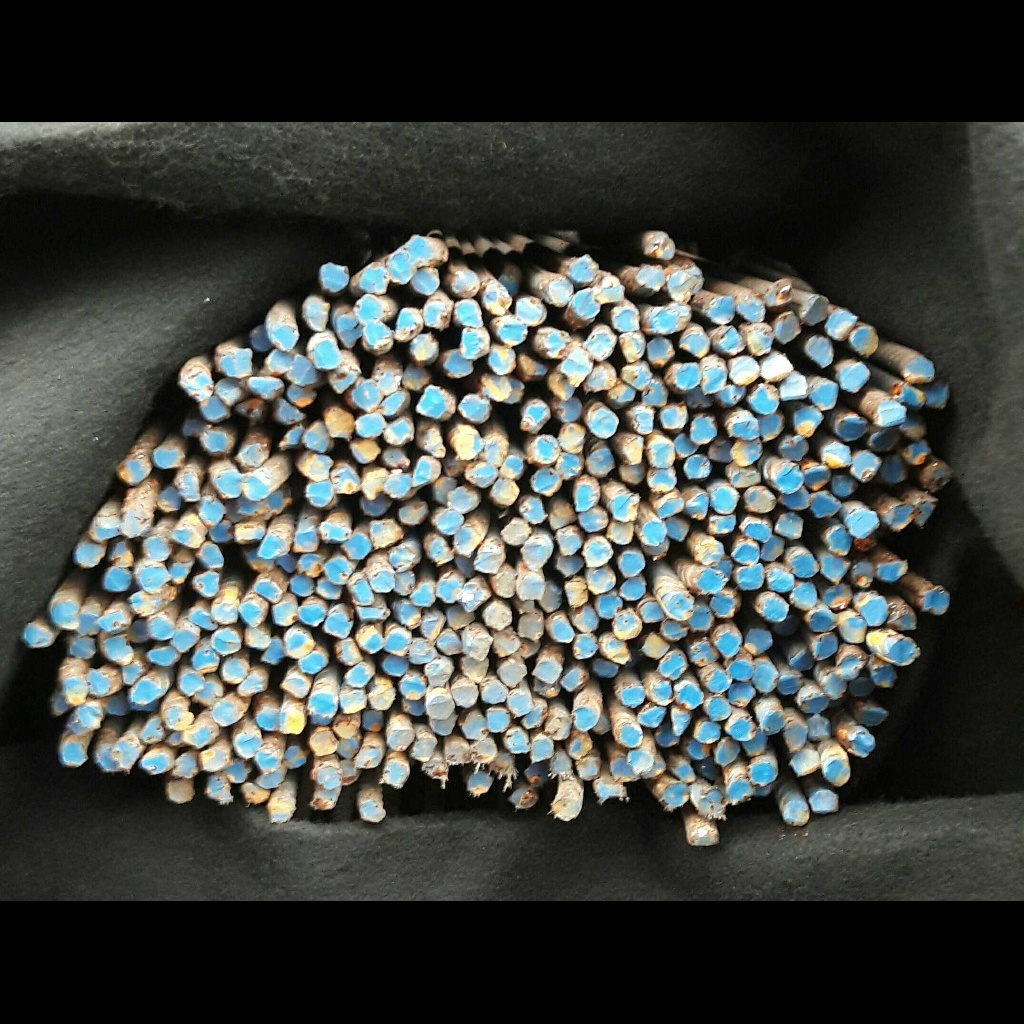dipstick: (360, 261, 389, 295), (851, 451, 882, 482), (620, 361, 652, 391), (287, 355, 318, 385), (562, 350, 591, 382), (516, 296, 546, 326), (825, 312, 856, 341), (389, 251, 417, 283), (879, 453, 908, 483), (326, 407, 354, 438), (417, 387, 445, 418), (729, 440, 762, 466), (320, 263, 349, 292), (453, 298, 482, 327), (794, 407, 823, 436), (840, 363, 869, 392), (904, 355, 933, 384), (303, 301, 331, 331), (412, 266, 440, 296), (773, 312, 801, 342), (847, 727, 875, 757), (221, 350, 252, 377), (273, 594, 299, 626), (305, 423, 333, 452), (404, 236, 432, 265), (354, 381, 382, 410), (484, 287, 512, 316), (520, 400, 549, 428), (530, 435, 559, 463), (751, 385, 779, 414), (823, 583, 852, 611), (398, 498, 428, 525), (730, 356, 760, 383), (806, 336, 833, 366), (747, 323, 773, 354), (465, 462, 497, 487), (488, 347, 516, 375), (830, 471, 858, 499), (463, 634, 492, 661), (422, 301, 451, 328), (612, 612, 641, 639), (590, 410, 617, 439), (820, 554, 849, 581), (849, 511, 878, 538), (887, 503, 916, 530), (791, 749, 821, 775), (810, 493, 841, 518), (184, 372, 212, 399), (332, 467, 360, 494), (356, 627, 384, 654), (491, 478, 519, 505), (520, 496, 548, 523), (450, 270, 478, 297), (587, 448, 614, 476), (775, 512, 803, 539), (870, 662, 898, 689), (483, 375, 511, 402), (356, 296, 385, 322), (569, 606, 598, 632), (560, 424, 586, 453), (573, 289, 599, 318), (309, 731, 339, 756), (876, 402, 906, 427), (669, 272, 693, 303), (778, 486, 810, 509), (521, 542, 548, 569), (570, 255, 597, 282), (612, 305, 639, 332), (745, 628, 772, 655), (802, 296, 829, 323), (729, 715, 756, 742), (890, 637, 917, 664), (861, 599, 888, 626), (270, 325, 298, 351), (324, 612, 352, 638), (385, 417, 411, 445), (460, 394, 488, 420), (444, 350, 472, 376), (461, 329, 487, 357), (499, 319, 527, 345), (566, 732, 592, 760), (660, 651, 686, 679), (640, 632, 668, 658), (546, 278, 572, 306), (647, 467, 675, 493), (708, 296, 734, 324), (690, 640, 718, 666), (777, 465, 803, 493), (759, 413, 785, 441), (762, 355, 790, 381), (781, 372, 809, 398), (827, 526, 853, 554), (812, 382, 838, 410), (925, 464, 951, 492), (619, 333, 644, 362), (780, 436, 809, 461), (140, 567, 167, 593), (371, 519, 397, 546), (403, 362, 429, 389), (691, 416, 717, 443), (667, 594, 694, 620), (805, 714, 831, 741), (788, 643, 814, 670), (790, 582, 816, 609), (104, 566, 132, 591), (343, 534, 371, 559), (350, 439, 378, 464), (637, 266, 665, 291), (680, 333, 708, 358), (742, 728, 767, 756), (901, 439, 929, 464), (287, 383, 316, 407), (211, 630, 240, 654), (362, 320, 391, 344), (355, 413, 384, 437), (459, 657, 488, 681), (555, 552, 584, 576), (586, 569, 615, 593), (730, 416, 759, 440), (877, 557, 906, 581), (565, 576, 588, 606), (52, 602, 78, 628), (222, 658, 248, 684), (325, 559, 351, 585), (306, 481, 332, 507), (471, 738, 497, 764), (462, 714, 488, 740), (459, 583, 485, 609), (456, 433, 482, 459), (642, 380, 668, 406), (697, 540, 723, 566), (739, 295, 765, 321), (545, 332, 571, 358), (199, 396, 226, 421), (118, 460, 145, 485), (114, 742, 139, 769), (192, 648, 219, 673), (485, 604, 512, 629), (700, 790, 727, 815), (720, 327, 745, 354), (687, 604, 712, 631), (737, 564, 764, 589), (782, 801, 809, 826), (278, 398, 306, 422), (578, 507, 606, 531), (766, 568, 794, 592), (811, 789, 839, 813), (837, 653, 865, 677), (925, 586, 949, 614), (391, 309, 414, 338), (837, 417, 866, 440), (156, 487, 182, 512), (216, 472, 241, 498), (242, 474, 267, 500), (286, 634, 312, 659), (437, 629, 463, 654), (519, 574, 544, 600), (584, 541, 610, 566), (694, 717, 720, 742), (556, 397, 582, 422), (587, 333, 612, 359), (648, 442, 674, 467), (675, 363, 700, 389), (712, 488, 738, 513), (899, 386, 925, 411), (315, 340, 339, 367), (409, 334, 436, 358), (533, 659, 560, 683), (571, 707, 598, 731), (669, 708, 693, 735), (614, 494, 638, 521), (853, 328, 877, 355), (824, 444, 851, 468), (234, 522, 262, 545), (551, 798, 579, 821), (259, 535, 288, 557), (216, 379, 241, 404), (236, 733, 261, 758), (438, 509, 463, 534), (805, 465, 830, 490), (825, 761, 850, 786), (91, 517, 117, 541), (64, 678, 88, 704), (413, 735, 437, 761), (501, 521, 527, 545), (664, 783, 690, 807), (642, 520, 666, 546), (660, 404, 686, 428), (728, 682, 754, 706), (813, 633, 837, 659), (823, 673, 847, 699), (841, 618, 867, 642), (850, 561, 874, 587), (131, 681, 158, 704), (446, 604, 473, 627), (475, 551, 502, 574), (684, 455, 711, 478), (748, 489, 775, 512), (253, 581, 281, 603), (321, 520, 349, 542), (195, 571, 219, 596), (391, 546, 416, 570), (386, 630, 410, 655), (369, 685, 394, 709), (436, 577, 460, 602), (533, 468, 557, 493), (518, 616, 543, 640), (574, 634, 598, 659), (678, 684, 703, 708), (556, 453, 580, 478), (763, 598, 788, 622), (760, 709, 784, 734), (891, 606, 916, 630), (69, 636, 95, 659), (267, 799, 293, 822), (298, 604, 324, 627), (428, 696, 454, 719), (596, 594, 622, 617), (620, 577, 646, 600), (607, 521, 633, 544), (609, 378, 635, 401), (24, 625, 51, 647), (171, 630, 198, 652), (498, 664, 525, 686), (704, 670, 731, 692), (213, 702, 237, 726), (146, 537, 170, 561), (200, 543, 224, 567), (620, 551, 644, 575), (702, 367, 726, 391), (754, 667, 778, 691), (174, 526, 199, 549), (123, 513, 148, 536), (352, 580, 375, 605), (425, 662, 450, 685), (520, 703, 543, 728), (546, 716, 571, 739), (628, 750, 653, 773), (573, 485, 596, 510), (667, 517, 690, 542), (773, 613, 798, 636), (761, 536, 784, 561), (709, 438, 732, 463), (99, 611, 125, 633), (72, 710, 98, 732), (167, 780, 193, 802), (297, 554, 323, 576), (382, 763, 408, 785), (452, 684, 478, 706), (384, 475, 410, 497), (611, 758, 637, 780), (620, 462, 646, 484), (281, 677, 308, 698), (690, 826, 718, 846), (858, 706, 886, 726), (200, 500, 223, 524), (280, 710, 303, 734), (310, 694, 334, 717), (290, 573, 314, 596), (505, 729, 529, 752), (449, 488, 473, 511), (501, 455, 524, 479), (621, 685, 645, 708), (717, 633, 740, 657), (711, 594, 735, 617), (149, 647, 178, 666), (388, 729, 413, 751), (400, 677, 425, 699), (482, 681, 507, 703), (620, 723, 642, 748), (784, 724, 806, 749), (250, 325, 271, 351), (409, 459, 430, 485), (639, 706, 665, 727), (707, 512, 734, 532), (562, 668, 585, 691), (209, 520, 233, 542), (384, 654, 408, 676), (341, 691, 365, 713), (445, 742, 469, 764), (717, 739, 739, 763), (810, 610, 835, 631), (395, 570, 415, 596), (733, 543, 759, 563), (239, 603, 261, 626), (257, 708, 279, 731), (372, 570, 395, 592), (336, 737, 359, 759), (410, 641, 433, 663), (486, 709, 509, 731), (509, 693, 532, 715), (552, 620, 575, 642), (791, 555, 814, 577), (75, 545, 99, 566), (148, 617, 172, 638), (201, 750, 225, 771), (709, 697, 730, 721), (749, 762, 773, 783), (662, 619, 686, 640), (316, 578, 341, 598), (555, 534, 580, 554), (688, 495, 708, 520), (802, 693, 827, 713), (657, 498, 683, 517), (744, 524, 770, 543), (77, 614, 99, 636), (62, 743, 84, 765), (241, 445, 263, 467), (318, 767, 340, 789), (728, 780, 750, 802), (213, 603, 236, 624), (699, 570, 722, 591), (202, 431, 226, 451), (246, 629, 270, 649), (345, 666, 369, 686), (512, 788, 536, 808), (111, 643, 133, 664), (129, 620, 150, 642), (180, 673, 202, 694), (256, 750, 278, 771), (412, 584, 433, 606), (651, 682, 672, 704), (675, 434, 697, 455), (647, 338, 669, 359), (654, 237, 675, 259), (155, 448, 178, 468), (144, 753, 167, 773), (294, 532, 317, 552), (285, 745, 305, 768), (299, 652, 322, 672), (362, 802, 385, 822), (634, 410, 653, 434), (728, 662, 752, 681), (531, 738, 552, 759), (641, 601, 662, 622), (688, 739, 710, 759), (779, 674, 801, 694), (313, 790, 336, 809), (270, 350, 291, 370), (363, 711, 384, 731), (188, 726, 209, 745), (356, 750, 378, 767), (467, 775, 487, 793)
